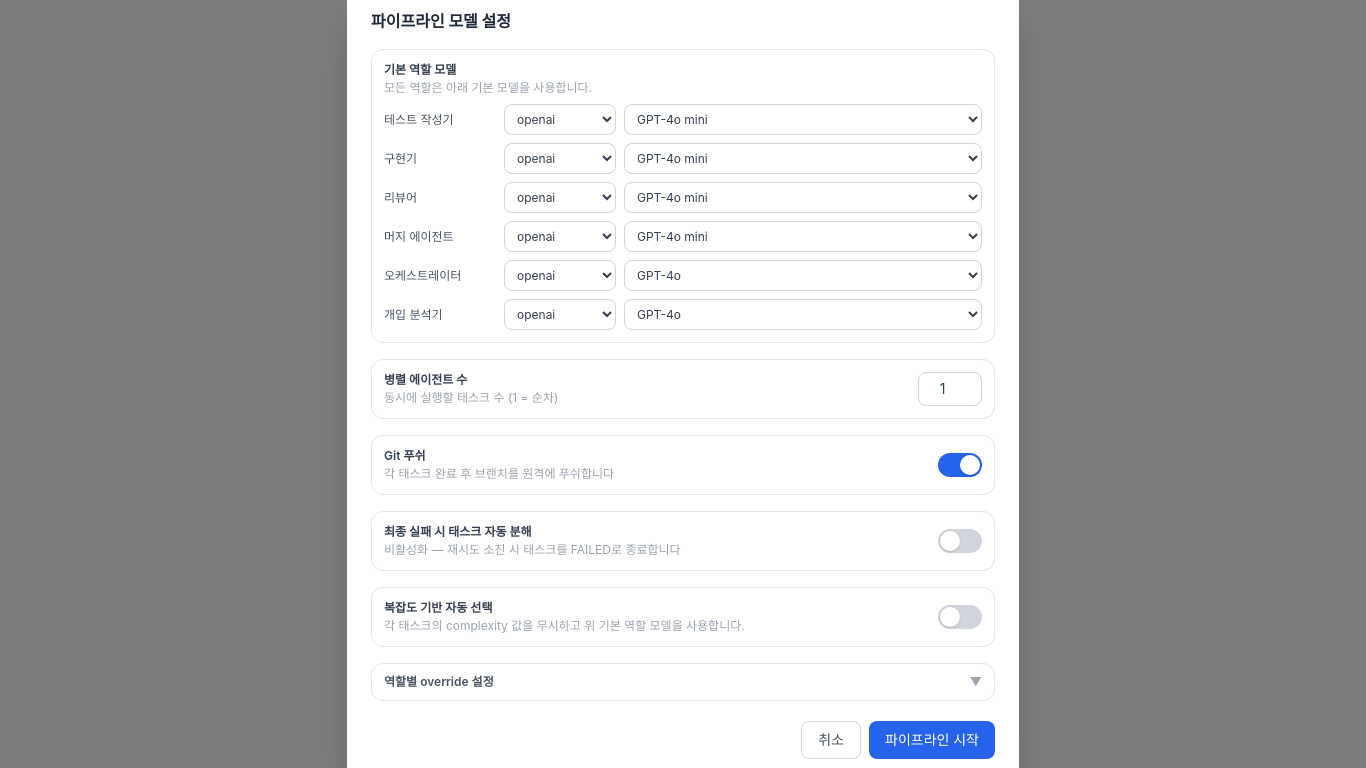
PipelineModelModal — intervention auto split 토글 › 토글 ON 시 구조 변경 경고 문구가 표시된다
This screenshot has width=1366, height=768.
Click the switch named "최종 실패 시 태스크 자동 분해".
click(960, 541)  # box [938,529,982,553]
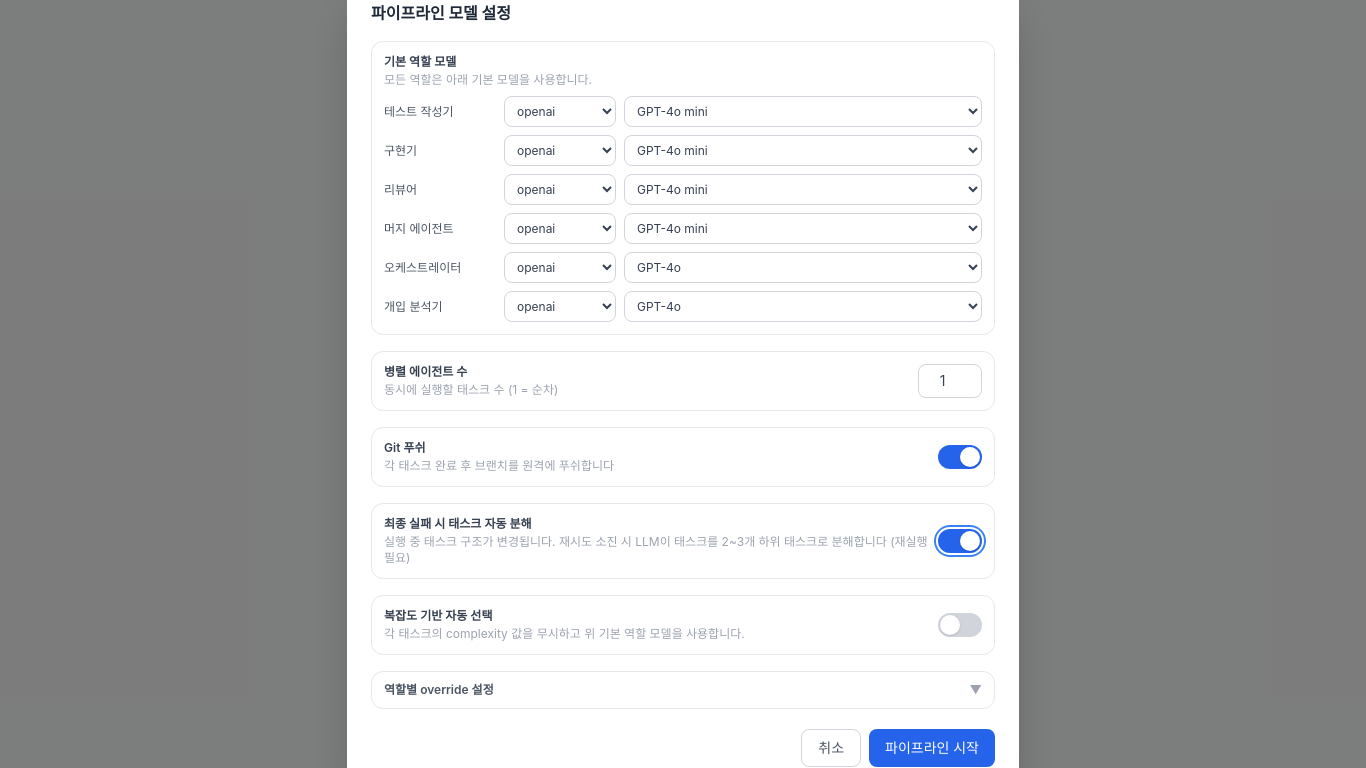
Expected: the text "실행 중 태스크 구조가 변경됩니다" is shown, [384,534,928,565]
